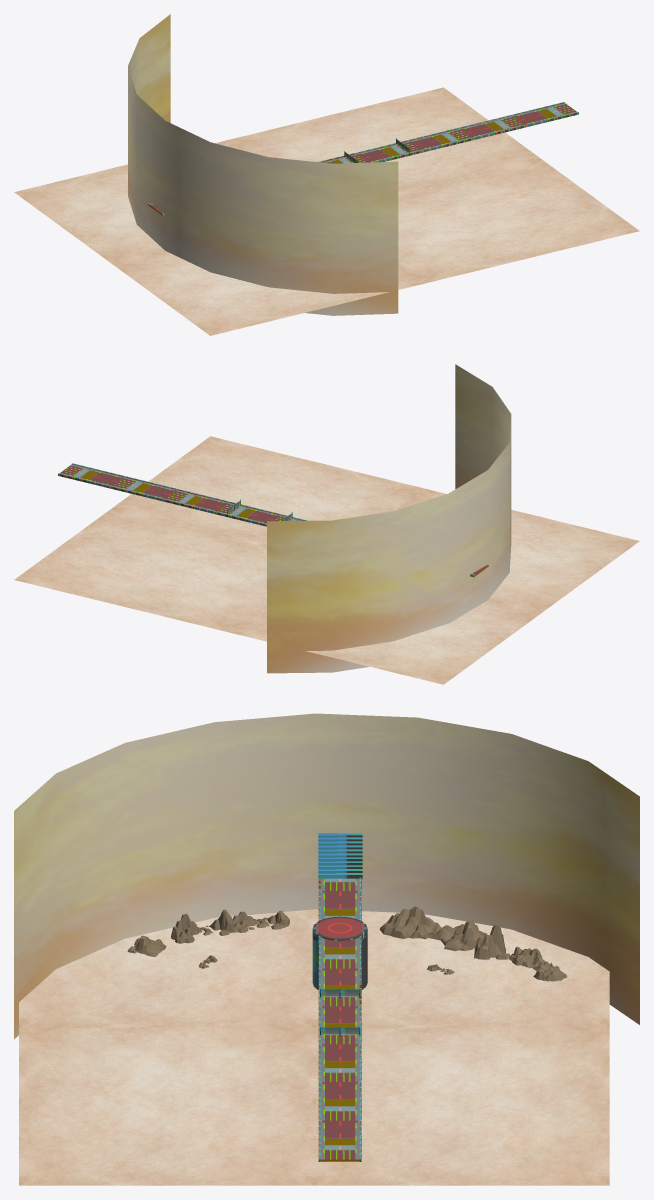
The model's file is map.fbx.
3 views of the same model, one above another, from view 1: azimuth 30°, elevation 25°; view 2: azimuth 150°, elevation 25°; view 3: azimuth 270°, elevation 25° (orthographic). The views are drawn at different scales.
Parts seen in each view (by area): view 1: map:map:pPlane9, map:map:pCylinder8, map:polySurface13; view 2: map:map:pPlane9, map:map:pCylinder8, map:polySurface13; view 3: map:map:pPlane9, map:map:pCylinder8, map:polySurface13, map:map:map:pPlane3, map:map:pPlane6, map:map:pPlane8, map:map:pPlane7, map:map:pPlane3.
Boxes of the visible parts, bbox=[...] form: map:map:pPlane9: bbox=[14, 87, 639, 335]; map:map:pCylinder8: bbox=[128, 14, 398, 315]; map:polySurface13: bbox=[148, 102, 578, 215]; map:map:pPlane9: bbox=[14, 436, 639, 684]; map:map:pCylinder8: bbox=[267, 364, 511, 673]; map:polySurface13: bbox=[58, 463, 488, 577]; map:map:pPlane9: bbox=[19, 909, 609, 1185]; map:map:pCylinder8: bbox=[14, 713, 639, 1039]; map:polySurface13: bbox=[312, 877, 367, 1161]; map:map:map:pPlane3: bbox=[379, 906, 486, 951]; map:map:pPlane6: bbox=[171, 909, 234, 943]; map:map:pPlane8: bbox=[509, 946, 567, 981]; map:map:pPlane7: bbox=[474, 925, 509, 959]; map:map:pPlane3: bbox=[232, 910, 289, 932].
Size of the model in its own units: 10424 by 3237 by 8027.
Materials: 4 (3 with a texture image).
